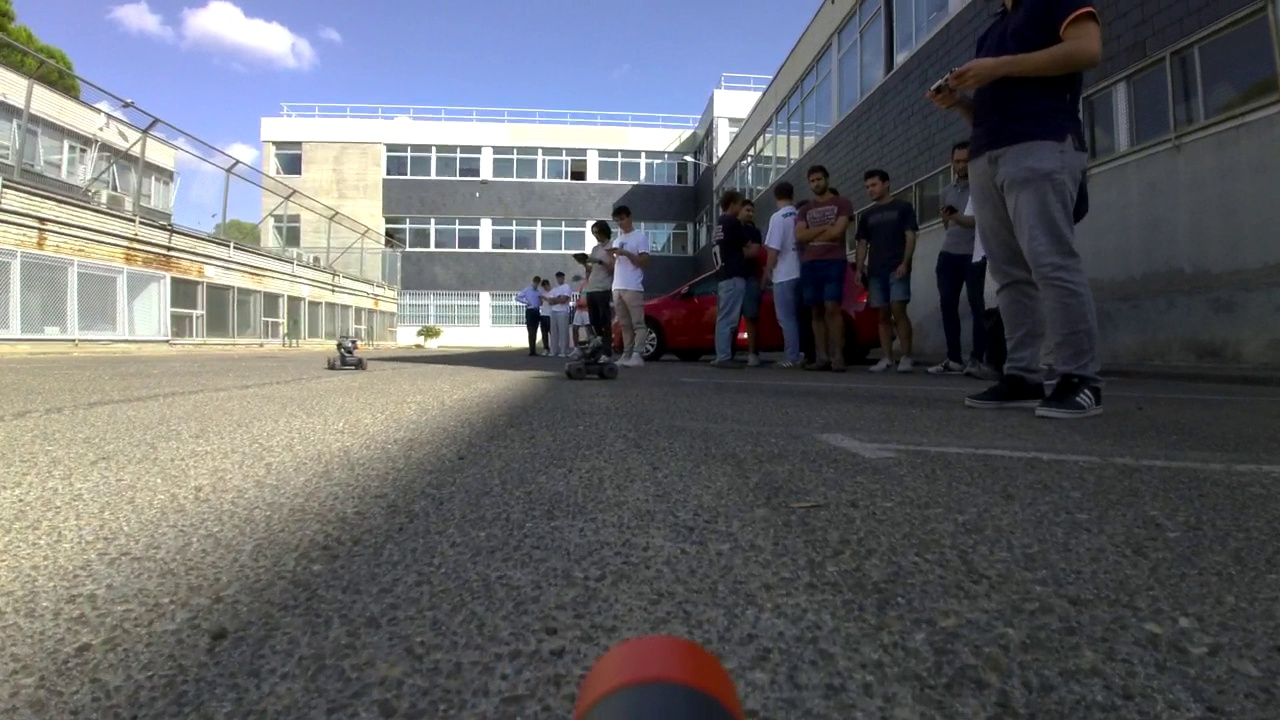robot: (562, 318, 620, 382), (323, 329, 366, 374)
